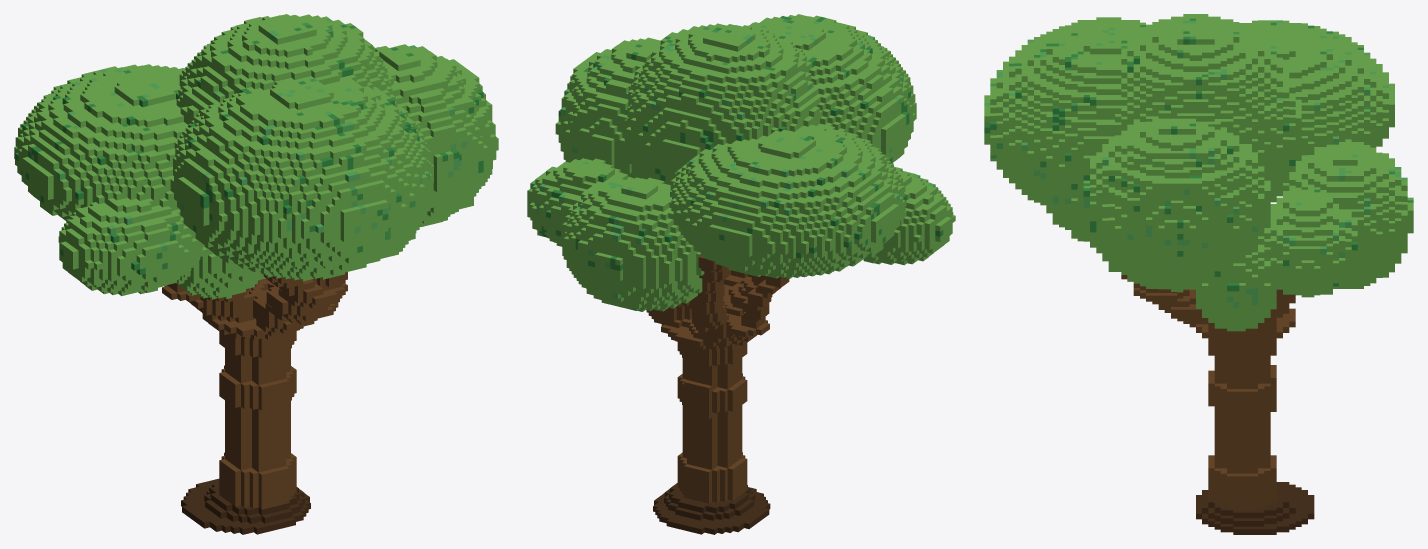
File: 1_2 caja.obj
3 views of the same model, side by side, from view 1: azimuth 30°, elevation 25°; view 2: azimuth 150°, elevation 25°; view 3: azimuth 270°, elevation 25° (orthographic). The views are drawn at different scales.
Bounding box in the file's own units: 7.4 × 8.6 × 6.9.
Materials: 1 (1 with a texture image).
